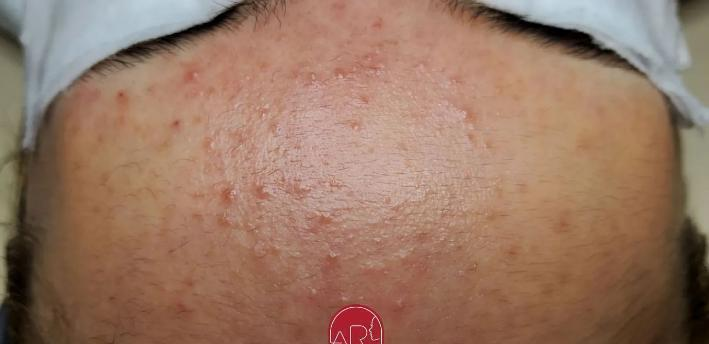whitehead: (257, 173, 288, 215), (405, 53, 434, 93), (342, 118, 377, 150), (306, 58, 330, 98), (176, 65, 211, 91), (299, 280, 328, 311), (384, 297, 422, 320), (224, 178, 242, 224), (459, 102, 481, 135), (395, 249, 414, 287), (334, 68, 352, 101), (339, 288, 364, 311)
